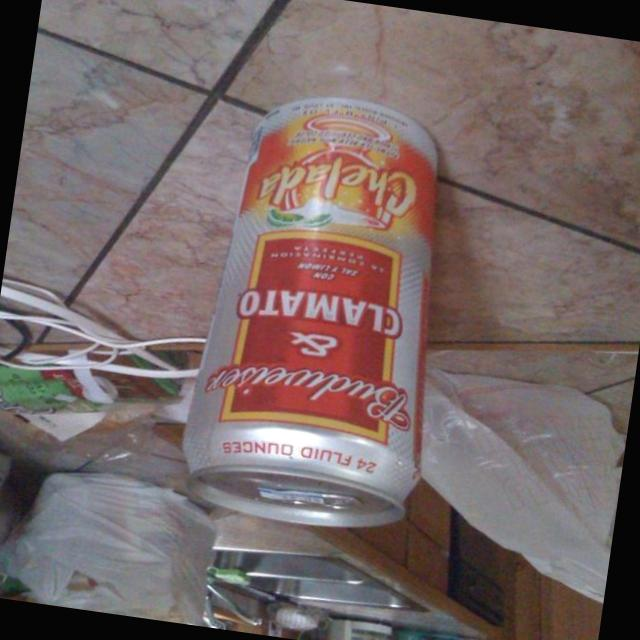can: (170, 79, 474, 542)
